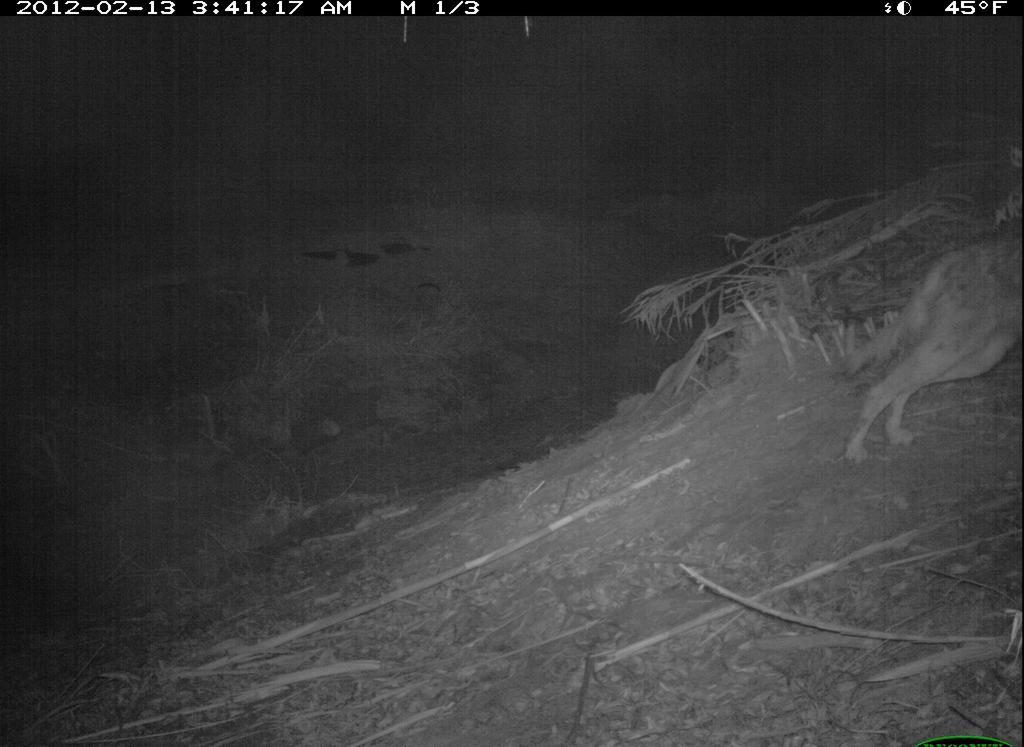coyote: (834, 205, 1022, 474)
